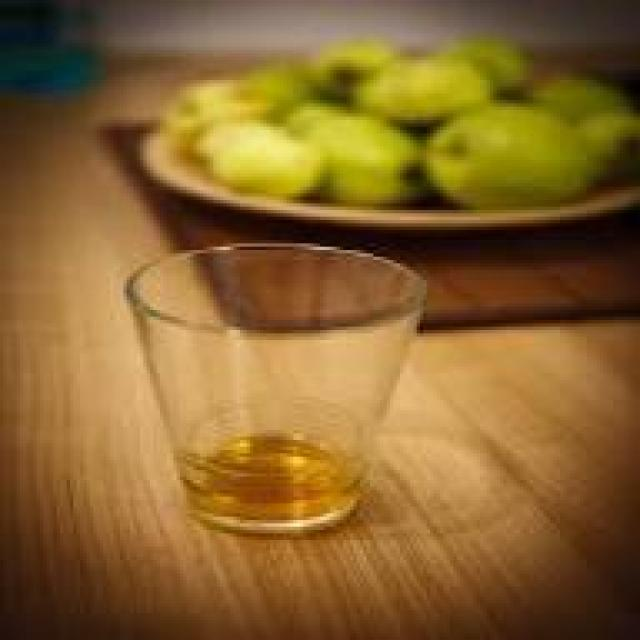apple: (440, 100, 587, 197), (300, 106, 423, 196), (360, 56, 503, 126)
